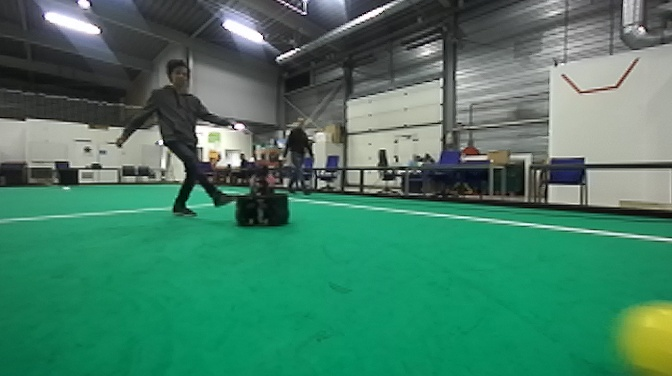human: (130, 58, 223, 227), (284, 117, 316, 198)
robot: (233, 145, 292, 229)
